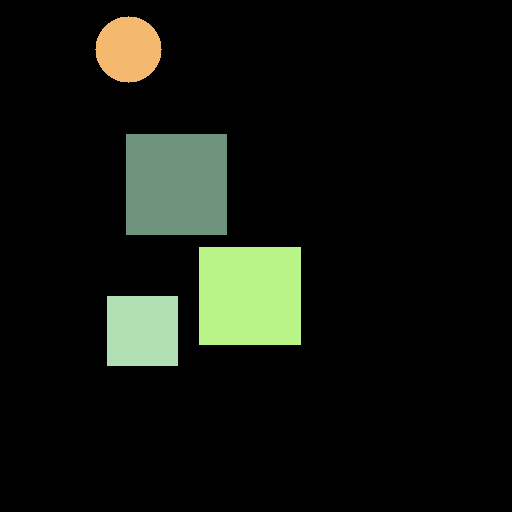circle: (95, 16, 161, 82)
square: (126, 134, 226, 234), (199, 247, 300, 344), (107, 296, 177, 365)
